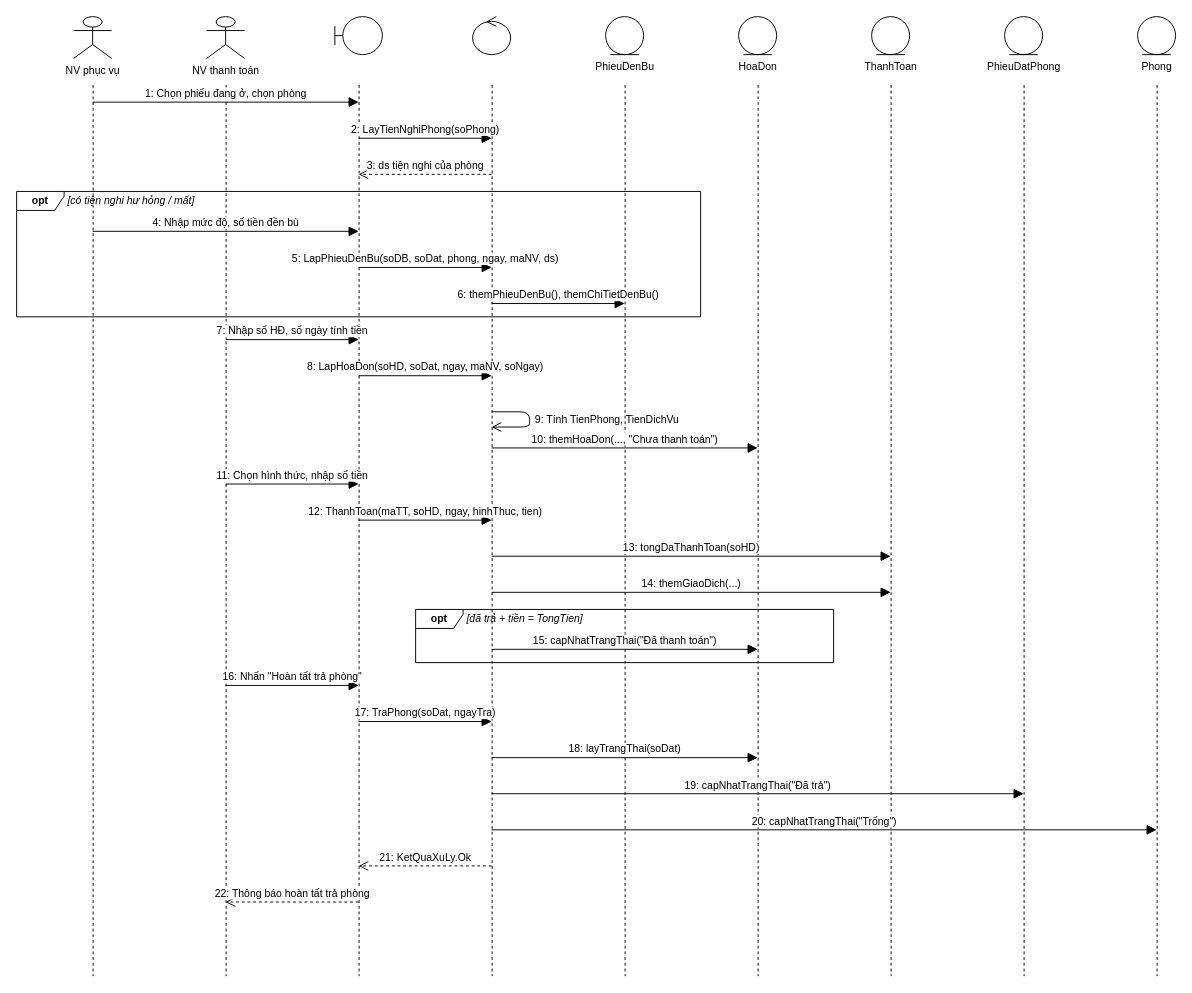
This 1192x993 diagram has some shape labels left out. Here are the shapes that lost their labels. From the top down, the box of each, then its label:
(334, 16, 382, 55): FrmTraPhong
(472, 16, 511, 55): TraPhongService
